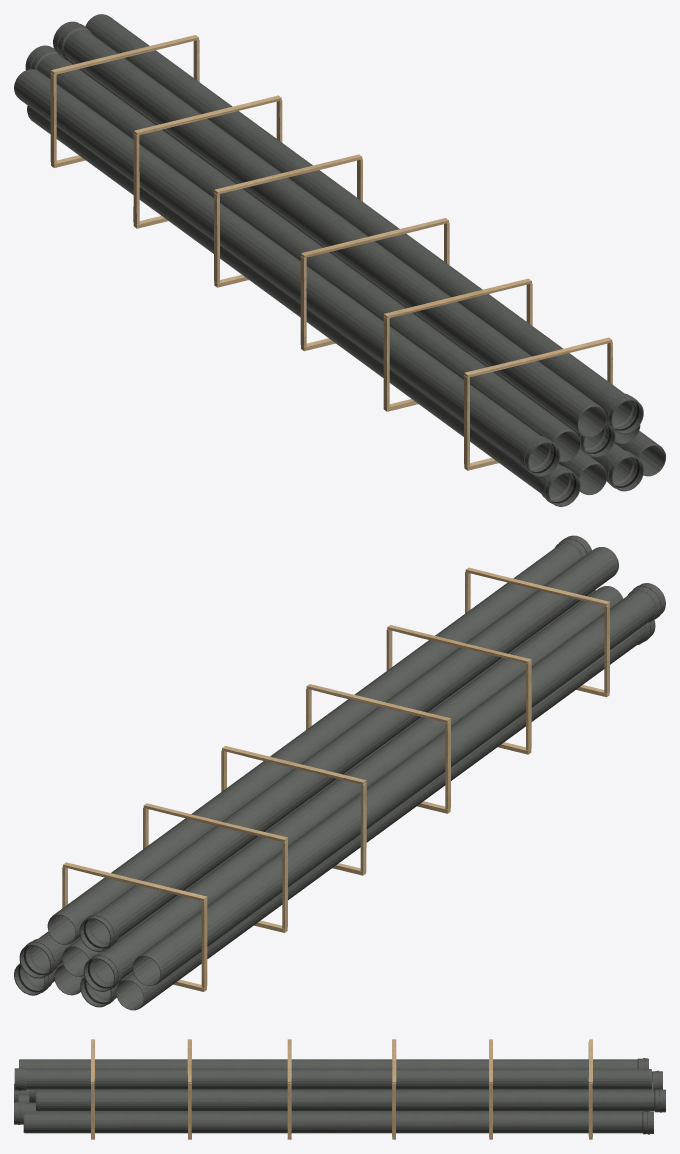
Rendered from hardware_piping.glb.
3 views of the same model, one above another, from view 1: azimuth 30°, elevation 25°; view 2: azimuth 150°, elevation 25°; view 3: azimuth 270°, elevation 25° (orthographic). The views are drawn at different scales.
Visible parts, largest first — view 1: part_2_opaque__plastic__gray_a, part_1_opaque__wood__new_standard_a; view 2: part_2_opaque__plastic__gray_a, part_1_opaque__wood__new_standard_a; view 3: part_2_opaque__plastic__gray_a, part_1_opaque__wood__new_standard_a.
Boxes of the visible parts, x1,y1,x2,y2 form: part_2_opaque__plastic__gray_a: [14, 14, 665, 506]; part_1_opaque__wood__new_standard_a: [50, 35, 612, 470]; part_2_opaque__plastic__gray_a: [14, 535, 665, 1010]; part_1_opaque__wood__new_standard_a: [62, 567, 609, 991]; part_2_opaque__plastic__gray_a: [14, 1058, 665, 1134]; part_1_opaque__wood__new_standard_a: [91, 1039, 592, 1139].
Bounding box in the file's own units: 1.09 × 0.684 × 7.
Materials: 3 (3 with a texture image).
